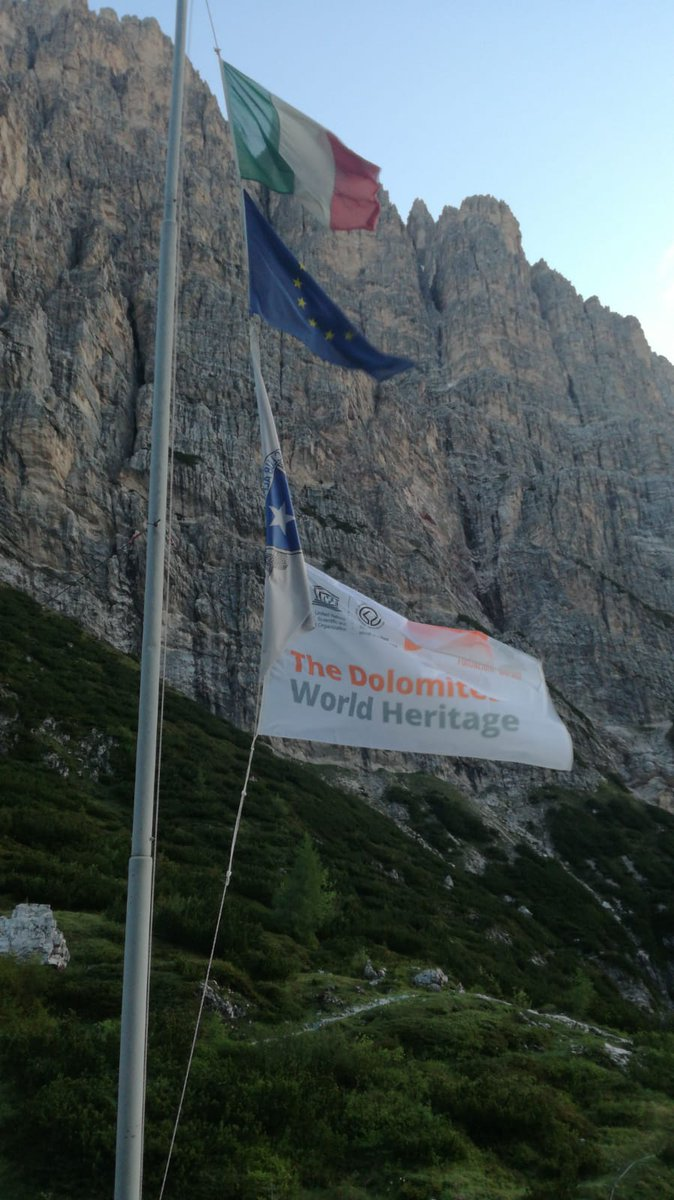Flag: (257, 552, 577, 770), (245, 191, 414, 382), (217, 53, 384, 234), (248, 350, 316, 688)
